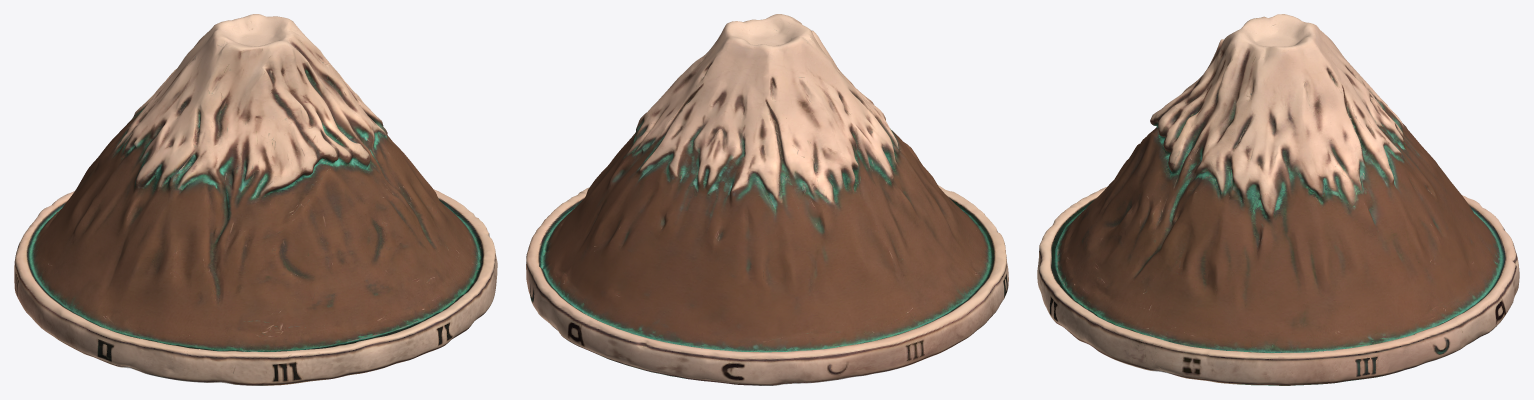
Rendered from mount_fuji_bronze.glb.
The picture shows the model from 3 angles, left to right: view 1: azimuth 30°, elevation 25°; view 2: azimuth 150°, elevation 25°; view 3: azimuth 270°, elevation 25°; orthographic projection.
Parts seen in each view (by area): view 1: Mesh_0; view 2: Mesh_0; view 3: Mesh_0.
Boxes of the visible parts, bbox=[...] form: Mesh_0: bbox=[14, 14, 497, 385]; Mesh_0: bbox=[526, 14, 1008, 385]; Mesh_0: bbox=[1037, 14, 1519, 385].
Size of the model in its own units: 1.91 by 1.12 by 1.91.
1 material, 1 textured.
